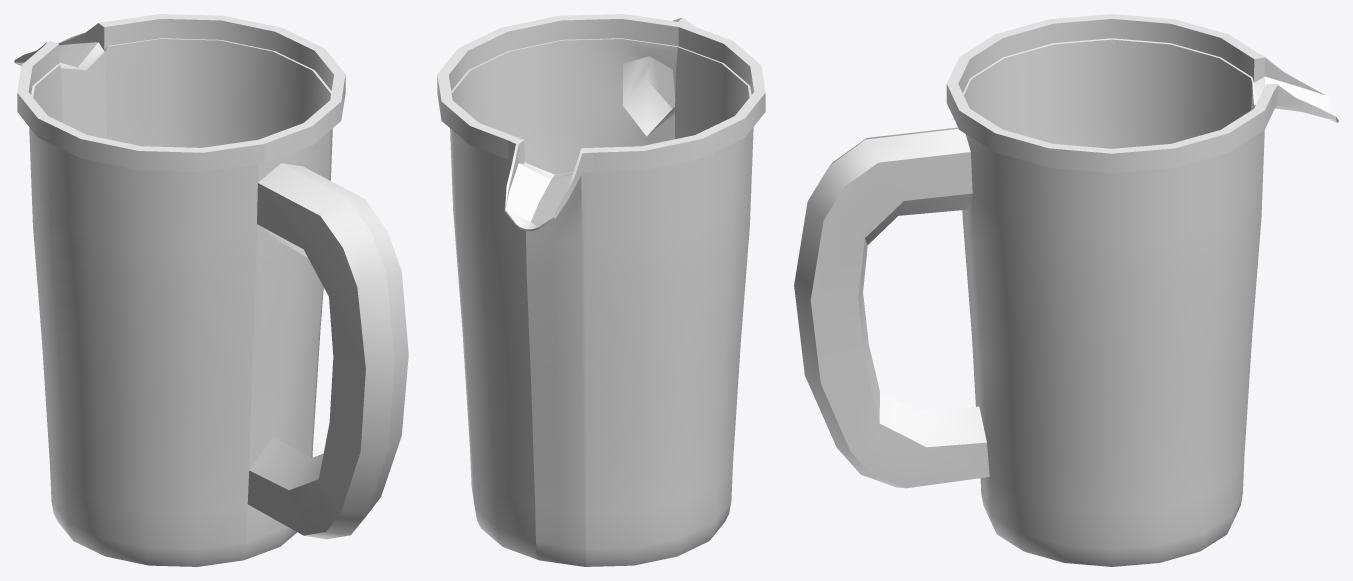
The model's file is Blender Jug.fbx.
3 renders of one model, left to right at view 1: azimuth 30°, elevation 25°; view 2: azimuth 150°, elevation 25°; view 3: azimuth 270°, elevation 25°, orthographic.
Parts seen in each view (by area): view 1: Blender Jug; view 2: Blender Jug; view 3: Blender Jug.
Boxes of the visible parts, box(x1,y1,x2,y2) form: Blender Jug: box(14, 14, 408, 566); Blender Jug: box(437, 14, 765, 566); Blender Jug: box(794, 14, 1338, 566).
Size of the model in its own units: 17.55 by 25.22 by 28.93.
